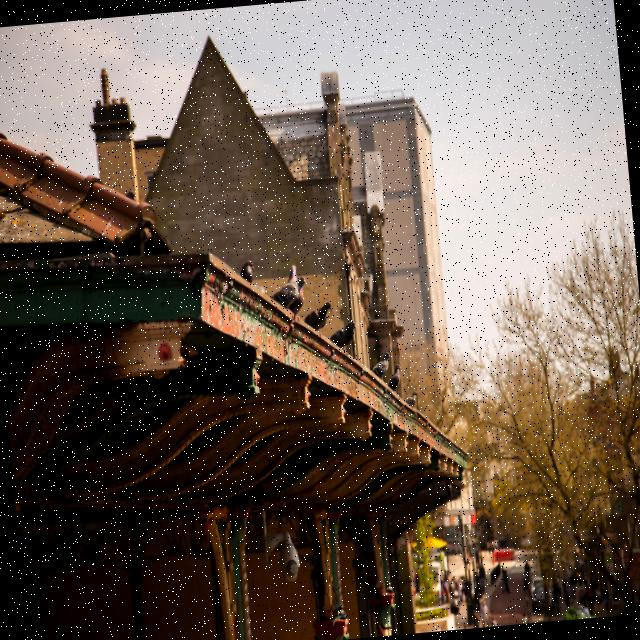bird: (267, 262, 309, 324), (327, 319, 359, 358), (301, 300, 335, 334), (382, 362, 404, 397), (368, 350, 392, 382), (238, 258, 256, 285), (403, 390, 420, 412)
